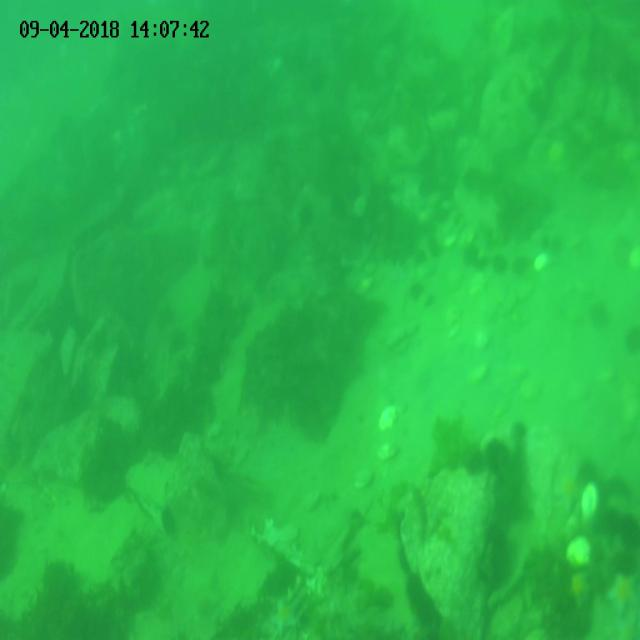echinus: (404, 577, 436, 619), (484, 438, 510, 468), (619, 510, 636, 548), (602, 504, 620, 534), (590, 299, 609, 327), (466, 454, 485, 478), (426, 238, 443, 260), (511, 254, 528, 276), (463, 245, 479, 268), (408, 282, 424, 302), (491, 252, 506, 273)
scallop: (60, 328, 78, 377), (566, 536, 593, 566), (581, 485, 597, 517), (468, 365, 491, 386), (472, 328, 491, 352), (375, 445, 400, 463), (354, 469, 374, 491), (520, 380, 539, 403), (378, 408, 396, 432), (534, 255, 552, 275)
